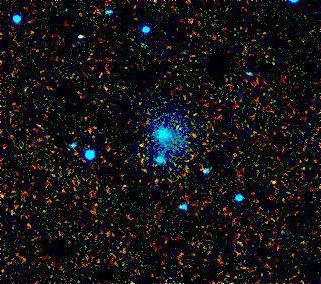star: (129, 129, 159, 159)
